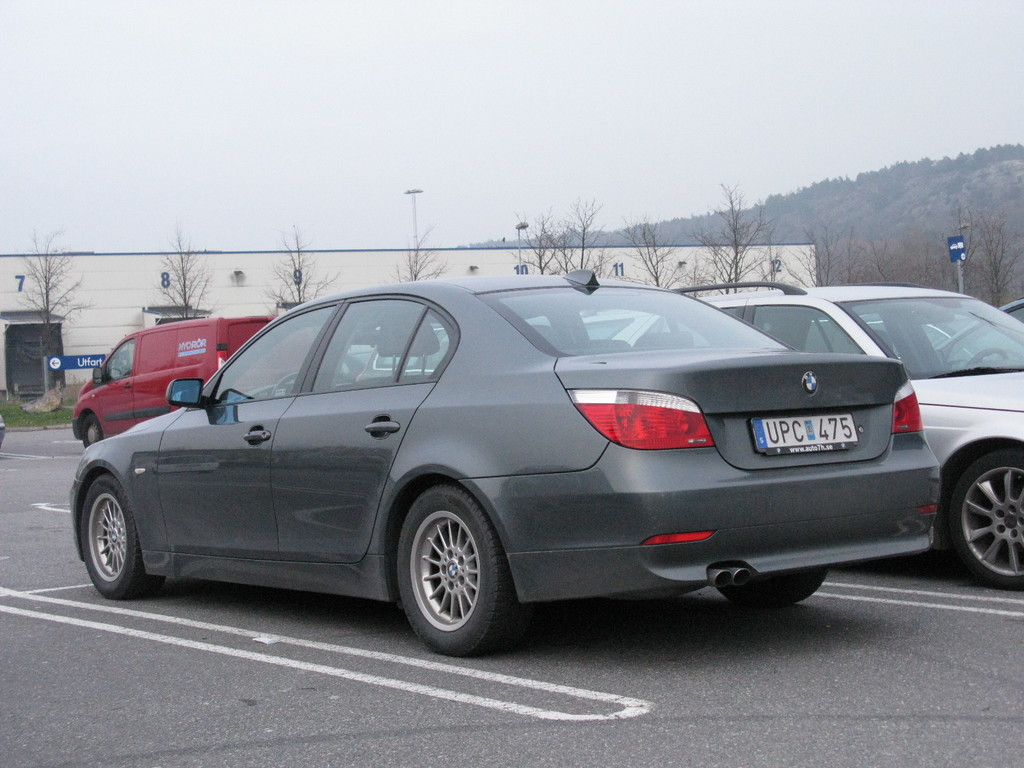license plate: (749, 419, 860, 453)
